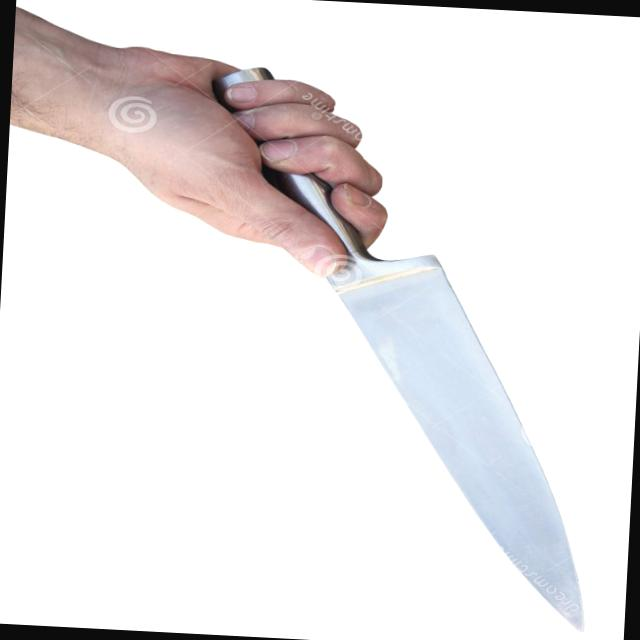knife: (194, 109, 620, 638)
